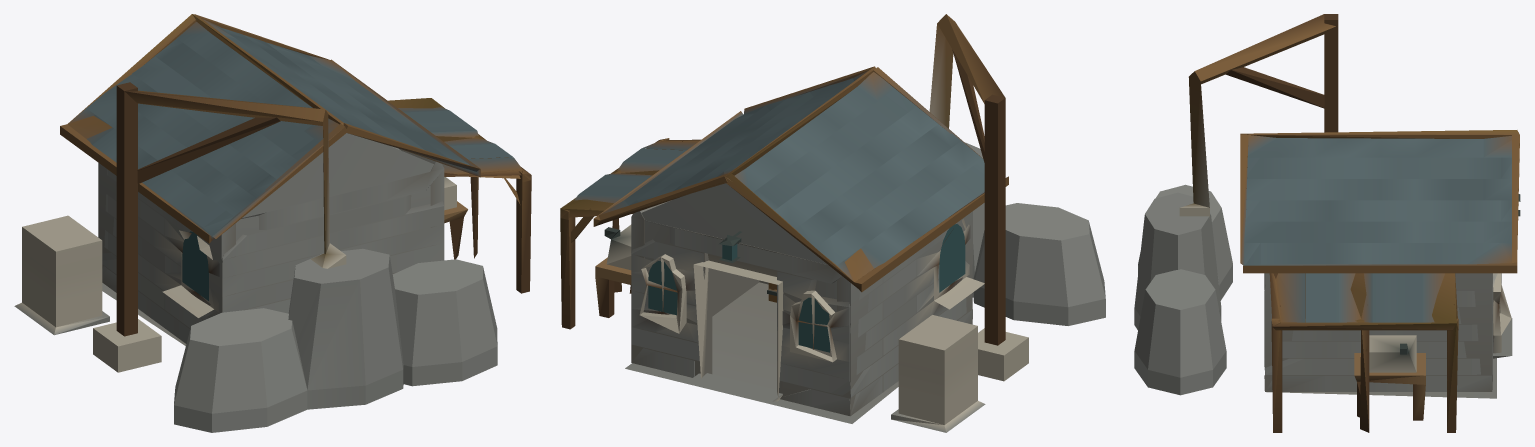
File: StoneQuarry.glb
3 renders of one model, left to right at view 1: azimuth 30°, elevation 25°; view 2: azimuth 150°, elevation 25°; view 3: azimuth 270°, elevation 25°, orthographic. The views are drawn at different scales.
Visible parts, largest first — view 1: StoneQuarry_P0_LOD1, StoneQuarryGlass_P0_LOD1; view 2: StoneQuarry_P0_LOD1, StoneQuarryGlass_P0_LOD1; view 3: StoneQuarry_P0_LOD1.
Part boxes in pixels (x1,y1,x2,y2): StoneQuarry_P0_LOD1: [14, 14, 531, 432]; StoneQuarryGlass_P0_LOD1: [182, 231, 208, 300]; StoneQuarry_P0_LOD1: [560, 14, 1105, 432]; StoneQuarryGlass_P0_LOD1: [648, 224, 965, 352]; StoneQuarry_P0_LOD1: [1134, 14, 1520, 432].
Size of the model in its own units: 8.4 by 5.51 by 7.55.
